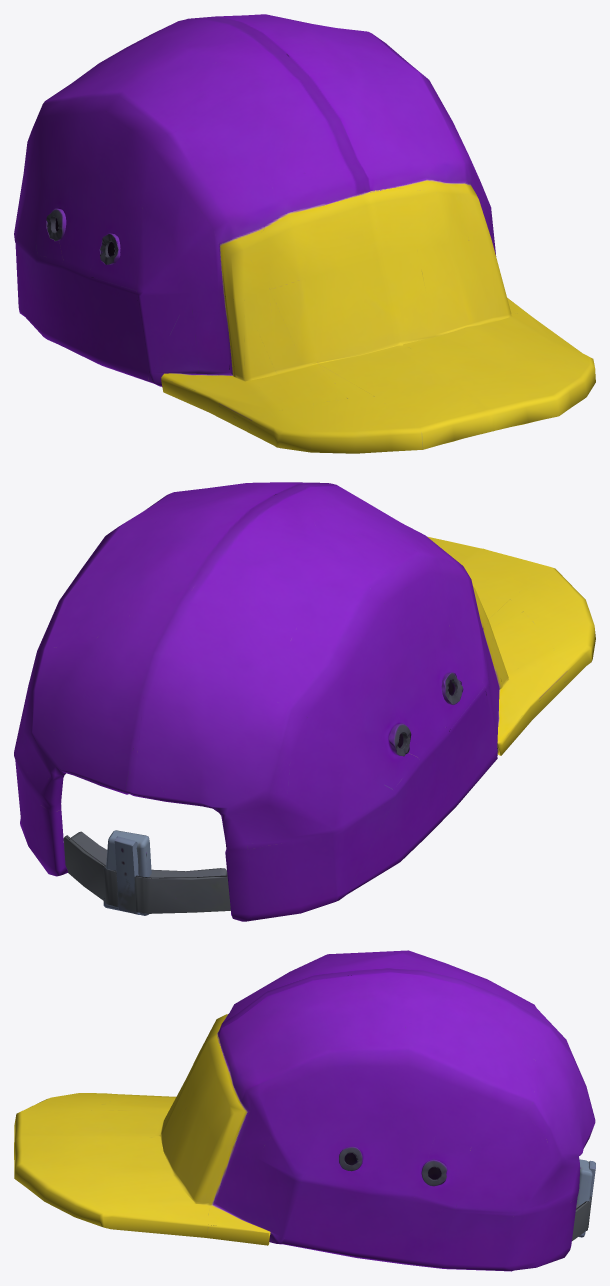
The model's file is five_panel_cap.glb.
The picture shows the model from 3 angles, top to bottom: view 1: azimuth 30°, elevation 25°; view 2: azimuth 150°, elevation 25°; view 3: azimuth 270°, elevation 25°; orthographic projection. The views are drawn at different scales.
Parts seen in each view (by area): view 1: geometry_0; view 2: geometry_0; view 3: geometry_0.
Part boxes in pixels (x1=…): geometry_0: x1=14, y1=14, x2=595, y2=453; geometry_0: x1=14, y1=482, x2=595, y2=921; geometry_0: x1=14, y1=950, x2=595, y2=1271.
Size of the model in its own units: 0.5483 by 0.4634 by 0.9536.
1 material, 1 textured.
